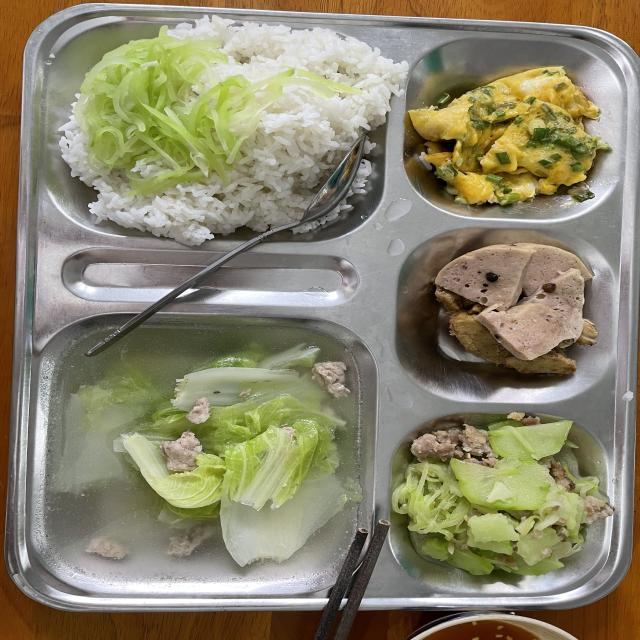canh cai: (48, 323, 358, 580)
com: (60, 15, 408, 245)
rau: (74, 27, 360, 196), (402, 407, 601, 581)
trung chien: (409, 67, 611, 204)
